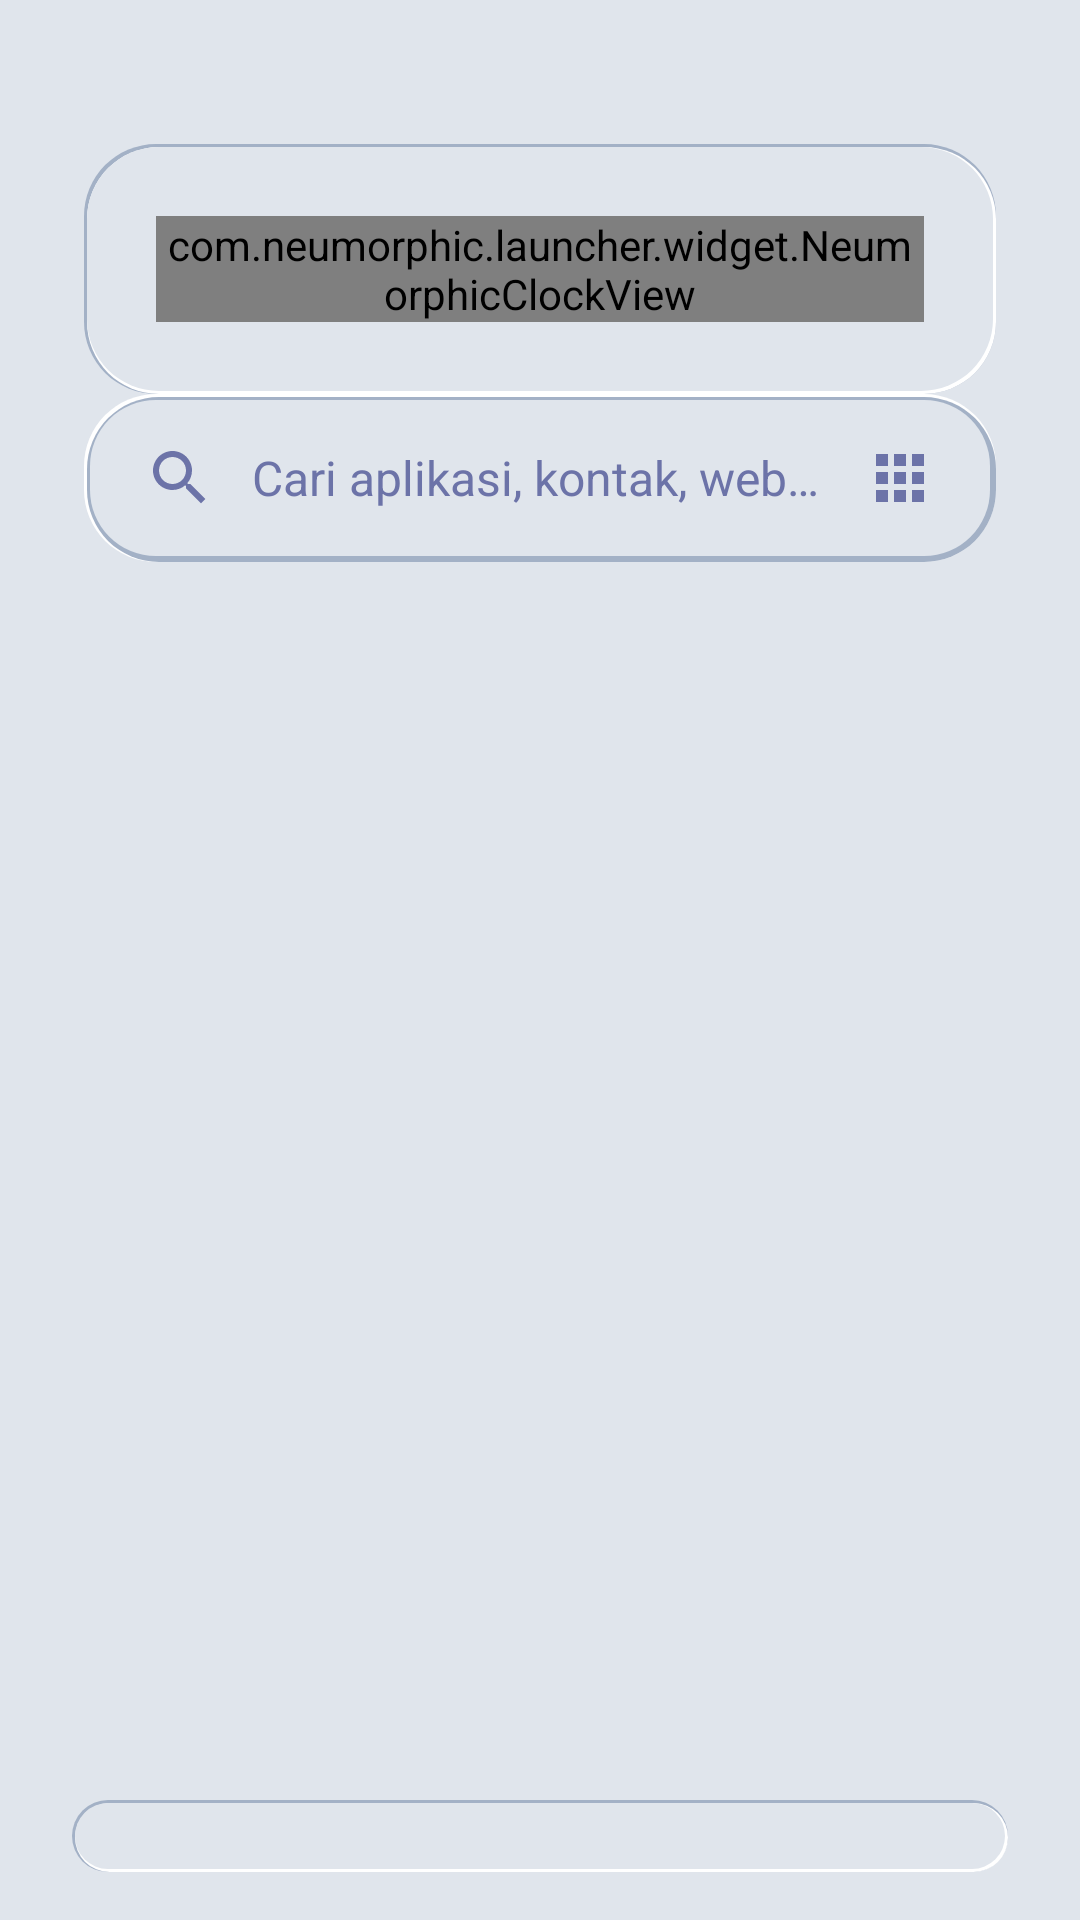

Icons on this 1080w x 1920h Android screen, each with its box as (left=x1, top=y1, right=x2, bottom=y2):
Daftar Aplikasi: (left=876, top=454, right=924, bottom=502)
